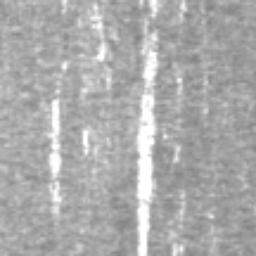White rust: (136, 33, 158, 256), (47, 99, 62, 214), (90, 4, 104, 37), (81, 127, 92, 156), (94, 43, 106, 62), (149, 0, 159, 17), (180, 0, 186, 12), (61, 61, 68, 71)
